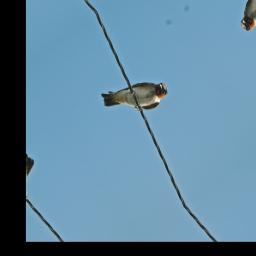Swallow: (97, 56, 173, 134)
